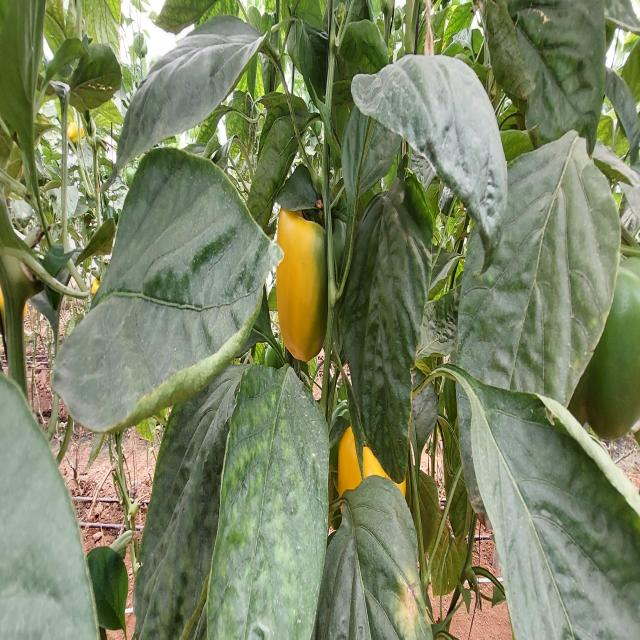Green--Not-ready-to-harvest: (542, 213, 640, 457)
GreenishYellow--Can-be-Harvested: (269, 172, 358, 380), (330, 428, 422, 560)
